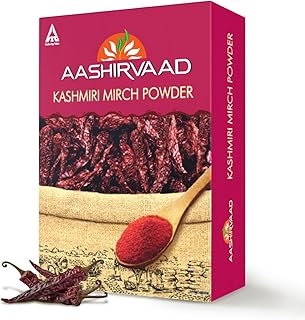Chilli Powder: (37, 15, 244, 301)
